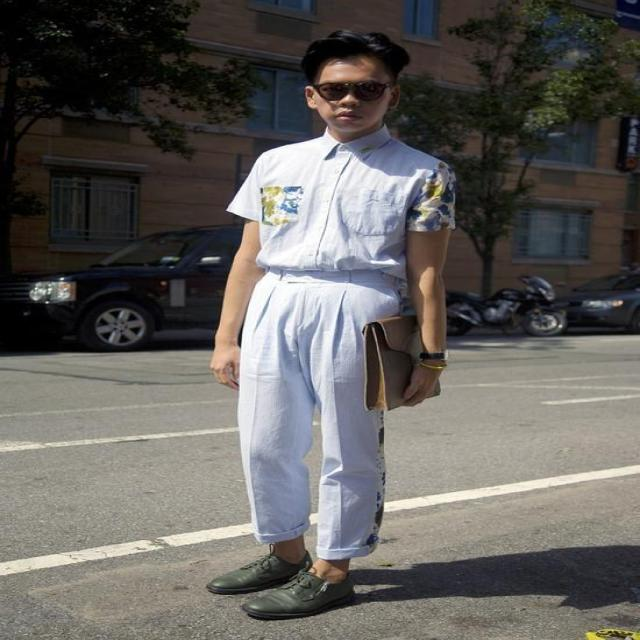pants: (237, 266, 411, 563)
shirt: (226, 127, 456, 273)
